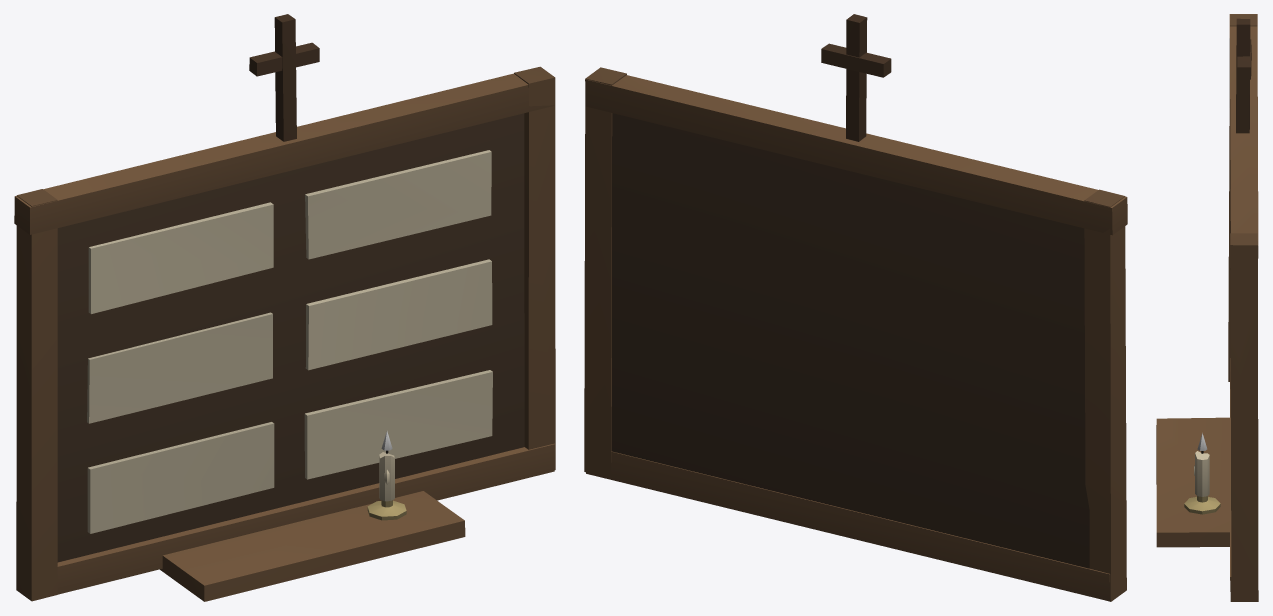
Rendered from ph_int_church_memorial.glb.
The picture shows the model from 3 angles, left to right: view 1: azimuth 30°, elevation 25°; view 2: azimuth 150°, elevation 25°; view 3: azimuth 270°, elevation 25°; orthographic projection. The views are drawn at different scales.
Visible parts, largest first — view 1: ph_int_church_memorial; view 2: ph_int_church_memorial; view 3: ph_int_church_memorial.
Boxes of the visible parts, x1,y1,x2,y2 form: ph_int_church_memorial: (14, 14, 555, 601); ph_int_church_memorial: (584, 14, 1127, 601); ph_int_church_memorial: (1156, 14, 1258, 601).
Bounding box in the file's own units: 1.21 × 1.13 × 0.2234.
